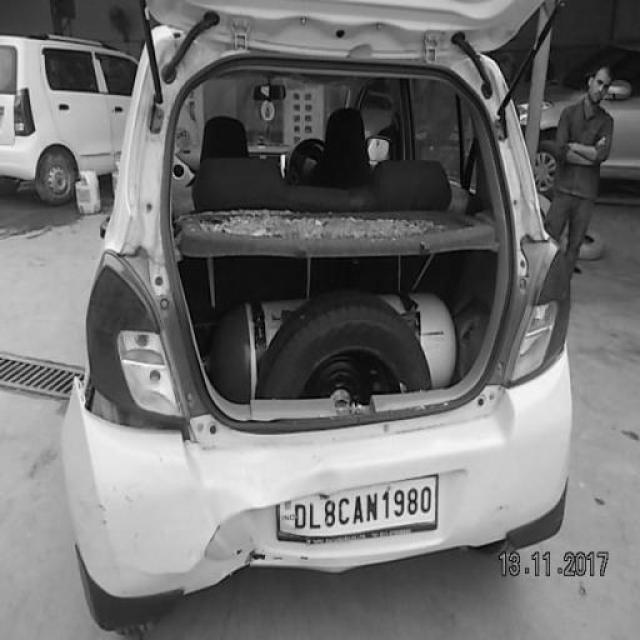dent: (179, 510, 283, 591), (309, 463, 344, 498)
misalignment: (74, 376, 195, 444)
